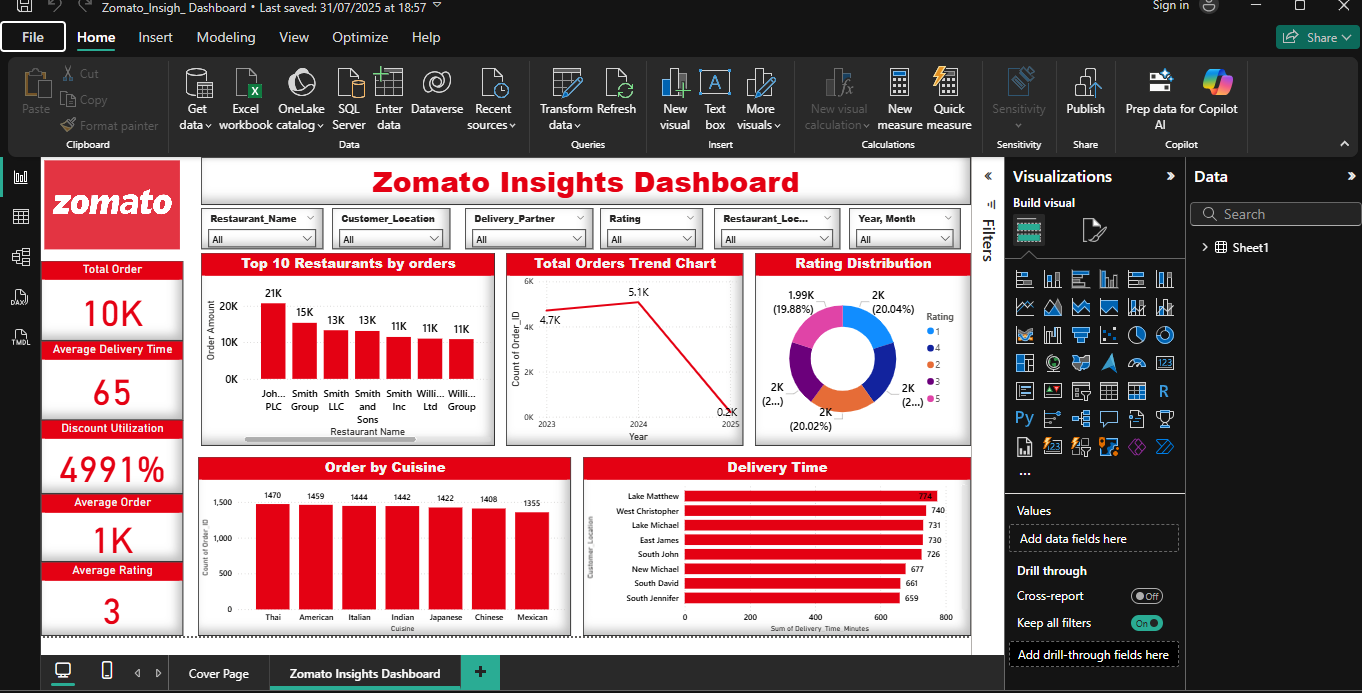

The dashboard page shown, as its layout file describes it:
{"tool":"powerbi","page":{"name":"Zomato Insights Dashboard ","canvas":[1399,720],"ordinal":1},"visuals":[{"type":"card","title":"Total Order ","fields":{"Values":["Sheet1.Order_ID"]},"box":[0,156.4,213.6,120.3],"z":0},{"type":"card","title":"Average Delivery Time","fields":{"Values":["Sheet1.Delivery_Time_Minutes"]},"box":[0,276.8,213.6,118.8],"z":1000},{"type":"card","title":"Average Order ","fields":{"Values":["Sheet1.Order_Amount"]},"box":[0,506.9,213.6,102.3],"z":2000},{"type":"card","title":"Average Rating ","fields":{"Values":["Sheet1.Rating"]},"box":[0,609.2,213.6,111.3],"z":3000},{"type":"card","title":"Discount Utilization ","fields":{"Values":["Sheet1.discount_utilization (%)"]},"box":[0,395.6,213.6,111.3],"z":4000},{"type":"lineChart","title":"Total Orders Trend Chart","fields":{"Category":["Sheet1.Order_Date.Variation.Date Hierarchy.Year","Sheet1.Order_Date.Variation.Date Hierarchy.Month"],"Y":["Sheet1.Order_ID"]},"box":[699.5,144.4,356.5,290.3],"z":5000},{"type":"clusteredBarChart","title":"Delivery Time","fields":{"Y":["Sheet1.Delivery_Time_Minutes"],"Category":["Sheet1.Customer_Location"]},"box":[815.3,451.3,583.7,269.3],"z":6000},{"type":"clusteredColumnChart","title":"Top  10 Restaurants by orders","fields":{"Category":["Sheet1.Restaurant_Name"],"Y":["Sheet1.Order_Amount"]},"box":[240.7,144.4,442.3,290.3],"z":7000},{"type":"donutChart","title":" Rating Distribution ","fields":{"Category":["Sheet1.Rating"],"Y":["Sheet1.Order_ID"]},"box":[1074.1,144.4,324.9,290.3],"z":8000},{"type":"columnChart","title":"Order by  Cuisine","fields":{"Category":["Sheet1.Cuisine"],"Y":["Sheet1.Order_ID"]},"box":[236.2,451.3,561.1,269.3],"z":9000},{"type":"textbox","box":[240.7,0,1158.3,72.2],"z":10000},{"type":"image","box":[0,0,213.6,144.4],"z":11000},{"type":"slicer","fields":{"Values":["Sheet1.Restaurant_Name"]},"box":[240.7,76.7,183.5,61.7],"z":12000},{"type":"slicer","fields":{"Values":["Sheet1.Customer_Location"]},"box":[437.8,76.7,177.5,61.7],"z":13000},{"type":"slicer","fields":{"Values":["Sheet1.Delivery_Partner"]},"box":[637.8,76.7,192.6,61.7],"z":14000},{"type":"slicer","fields":{"Values":["Sheet1.Rating"]},"box":[840.9,76.7,154.9,61.7],"z":15000},{"type":"slicer","fields":{"Values":["Sheet1.Restaurant_Location"]},"box":[1012.4,76.7,189.5,61.7],"z":16000},{"type":"slicer","fields":{"Values":["Sheet1.Order_Date.Variation.Date Hierarchy.Year","Sheet1.Order_Date.Variation.Date Hierarchy.Month"]},"box":[1215.5,76.7,168.5,61.7],"z":17000}]}

Visuals, with their boxes on the page's 1399x720 design canvas (x1, y1, x2, y2). These are canvas units, not pixel positions in the 1362x693 screenshot, which may show the page scaled, cropped or inside an application window:
"Total Order " card: detection(0, 156, 214, 277)
"Average Delivery Time" card: detection(0, 277, 214, 396)
"Average Order " card: detection(0, 507, 214, 609)
"Average Rating " card: detection(0, 609, 214, 720)
"Discount Utilization " card: detection(0, 396, 214, 507)
"Total Orders Trend Chart" lineChart: detection(700, 144, 1056, 435)
"Delivery Time" clusteredBarChart: detection(815, 451, 1399, 721)
"Top  10 Restaurants by orders" clusteredColumnChart: detection(241, 144, 683, 435)
" Rating Distribution " donutChart: detection(1074, 144, 1399, 435)
"Order by  Cuisine" columnChart: detection(236, 451, 797, 721)
textbox: detection(241, 0, 1399, 72)
image: detection(0, 0, 214, 144)
slicer - Sheet1.Restaurant_Name: detection(241, 77, 424, 138)
slicer - Sheet1.Customer_Location: detection(438, 77, 615, 138)
slicer - Sheet1.Delivery_Partner: detection(638, 77, 830, 138)
slicer - Sheet1.Rating: detection(841, 77, 996, 138)
slicer - Sheet1.Restaurant_Location: detection(1012, 77, 1202, 138)
slicer - Sheet1.Order_Date.Variation.Date Hierarchy.Year x Sheet1.Order_Date.Variation.Date Hierarchy.Month: detection(1216, 77, 1384, 138)
